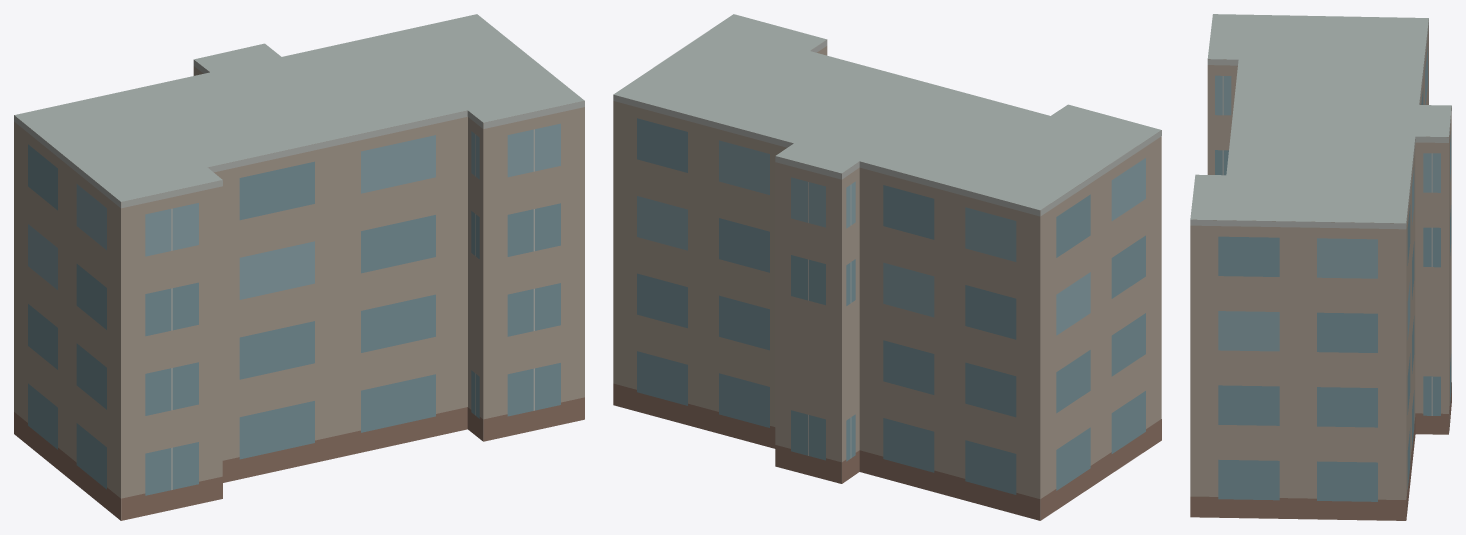
Rendered from survey-upis-32600231.glb.
The picture shows the model from 3 angles, left to right: view 1: azimuth 30°, elevation 25°; view 2: azimuth 150°, elevation 25°; view 3: azimuth 270°, elevation 25°; orthographic projection. The views are drawn at different scales.
Parts seen in each view (by area): view 1: survey-upis-32600231.tmp; view 2: survey-upis-32600231.tmp; view 3: survey-upis-32600231.tmp.
Part boxes in pixels (x1=…): survey-upis-32600231.tmp: x1=14, y1=14, x2=584, y2=520; survey-upis-32600231.tmp: x1=613, y1=14, x2=1161, y2=520; survey-upis-32600231.tmp: x1=1190, y1=14, x2=1451, y2=520.
Size of the model in its own units: 18.42 by 12.2 by 9.72.
